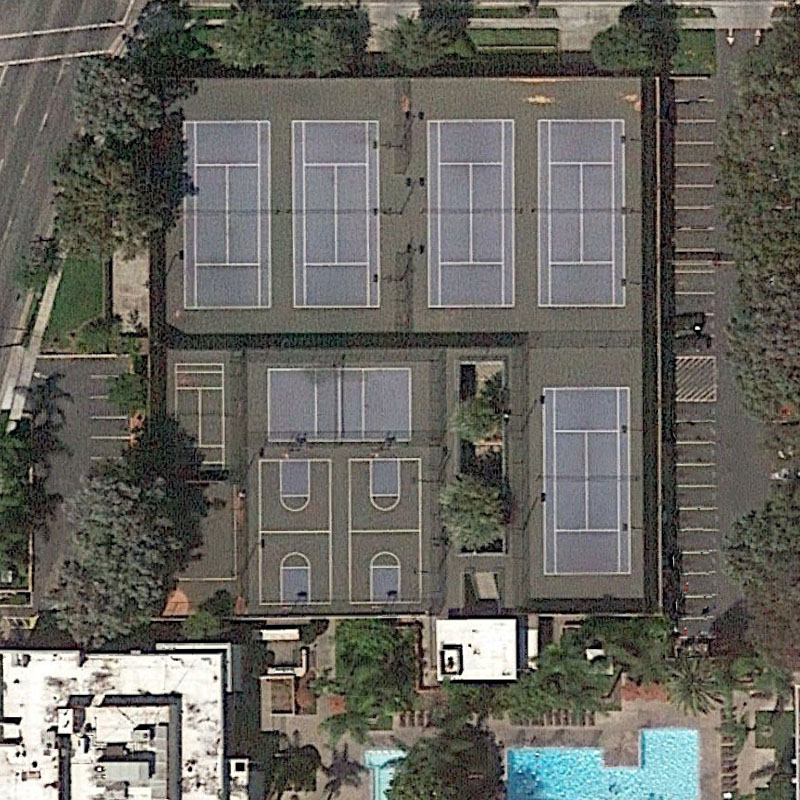basketballcourt: (347, 456, 423, 605), (259, 457, 333, 606)
tenniscourt: (426, 120, 515, 307), (292, 120, 380, 308), (184, 121, 270, 309), (538, 119, 624, 307), (544, 385, 630, 573)
